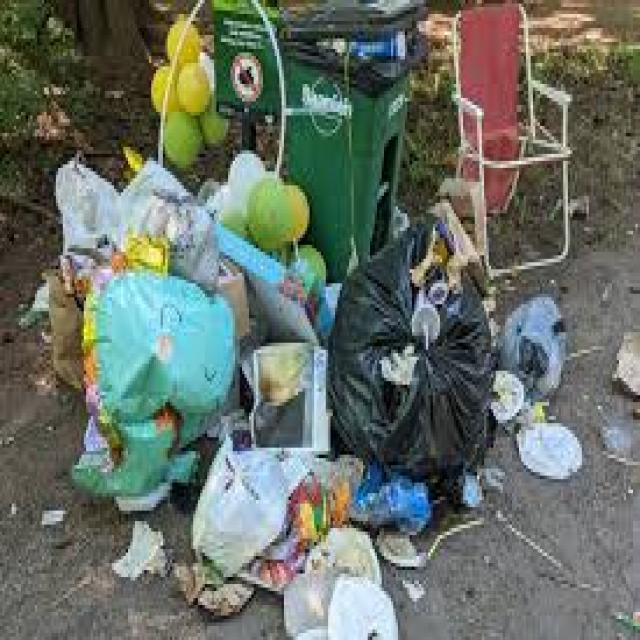garbage: (49, 160, 558, 490), (193, 458, 398, 637)
